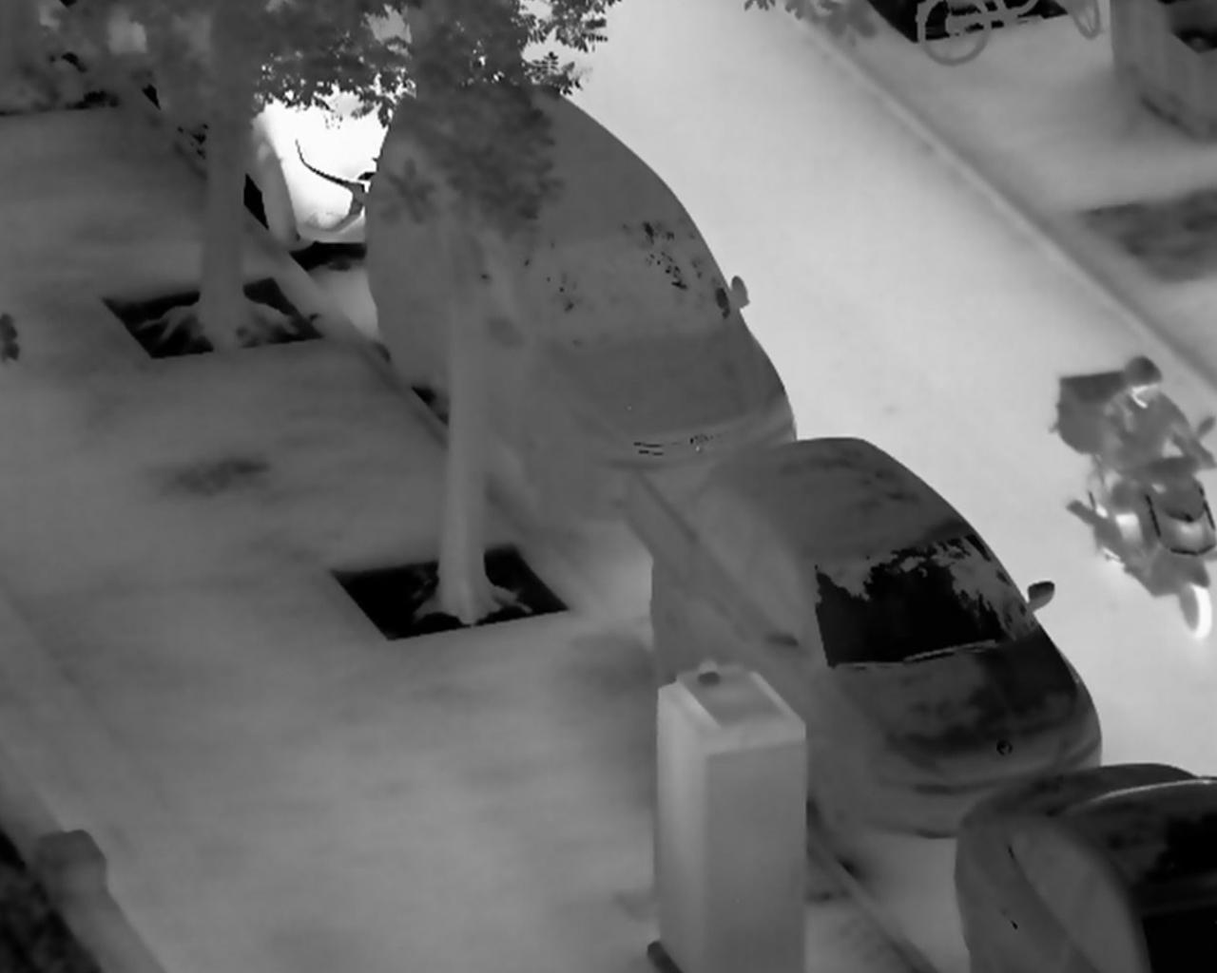person: (1101, 352, 1217, 561)
